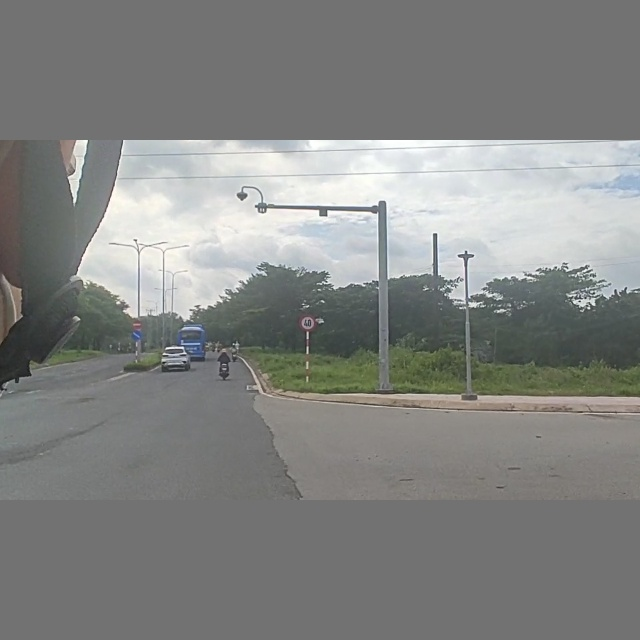P.102: (131, 318, 142, 331)
P.127*40: (299, 313, 317, 331)
R.302a: (131, 329, 142, 341)
